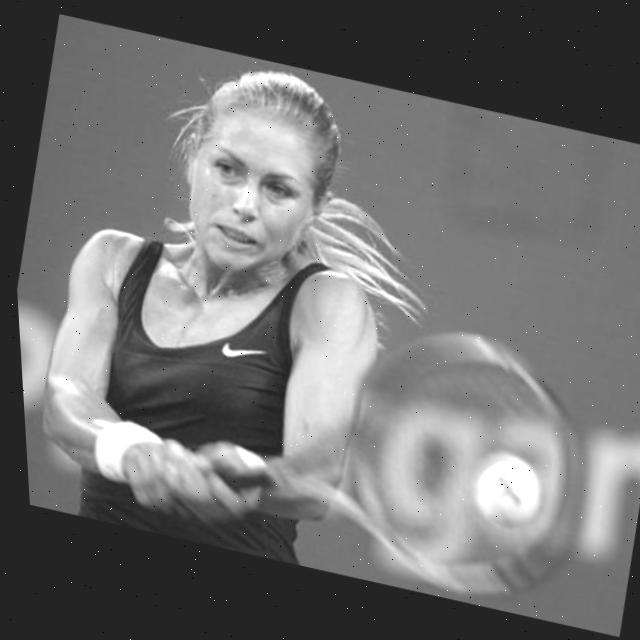face: (167, 57, 352, 309)
